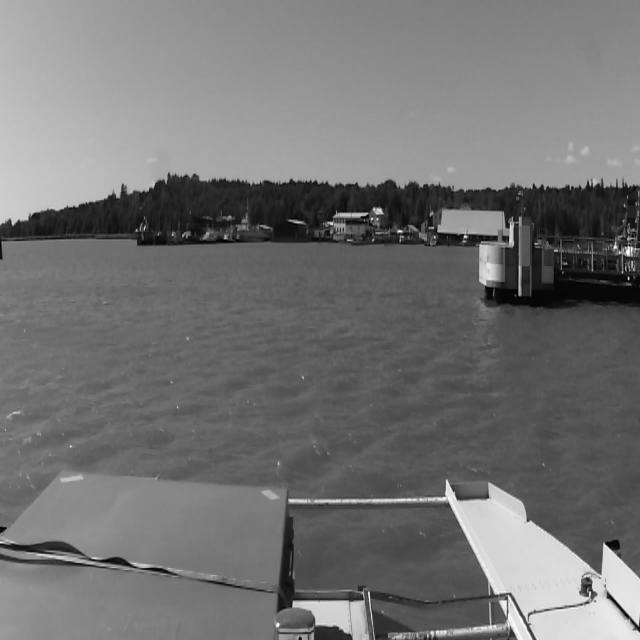ship: (235, 218, 271, 242), (198, 227, 218, 245), (218, 226, 234, 243), (461, 227, 471, 250)
